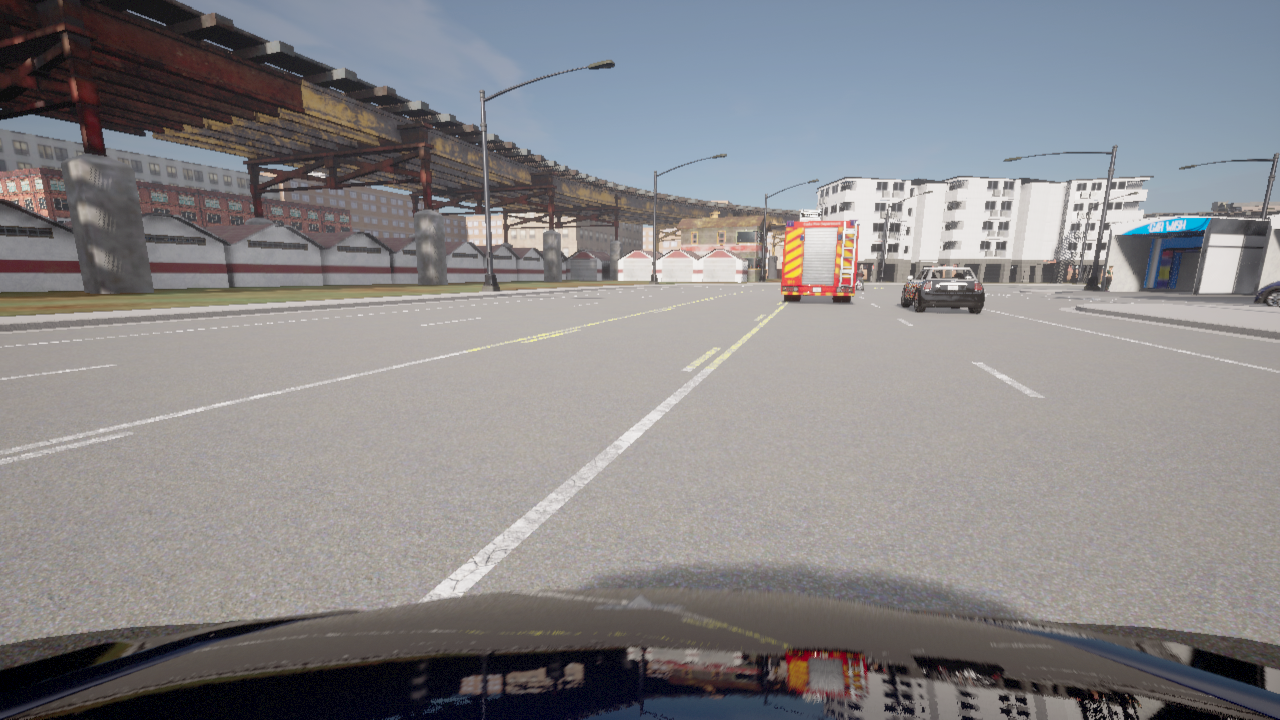cyclist: (0, 588, 1279, 719), (781, 208, 859, 302), (901, 267, 984, 313), (1254, 281, 1279, 306), (856, 280, 861, 290)
pedestrian: (1104, 265, 1112, 291)
